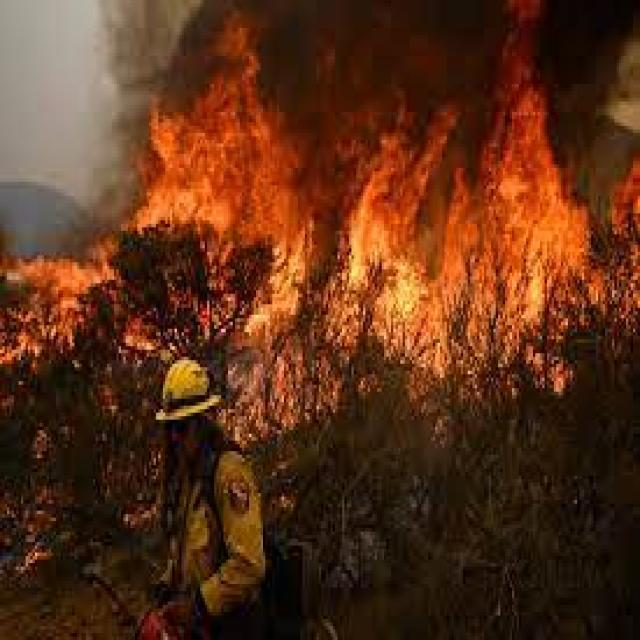Fire: (167, 132, 588, 342), (23, 262, 92, 319)
Smoke: (186, 6, 640, 105)
